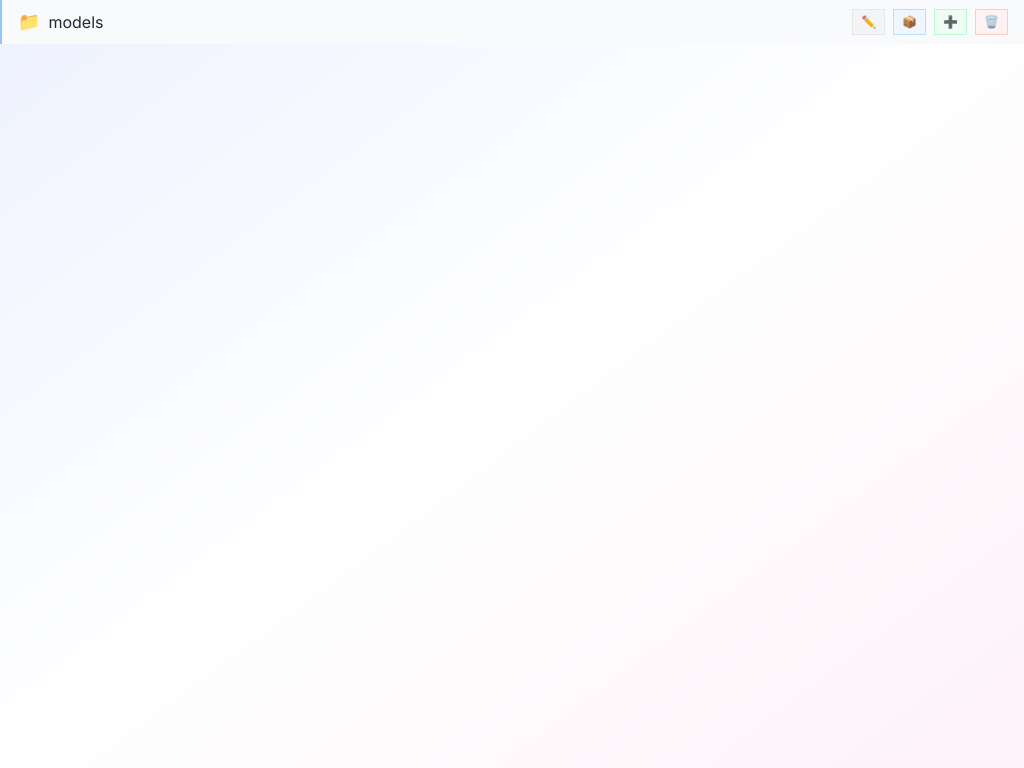
Test: FileTreeNode › collapses folder on second click
# First click: expand
Click the text "models".
click(76, 22)  # box [48,12,104,32]
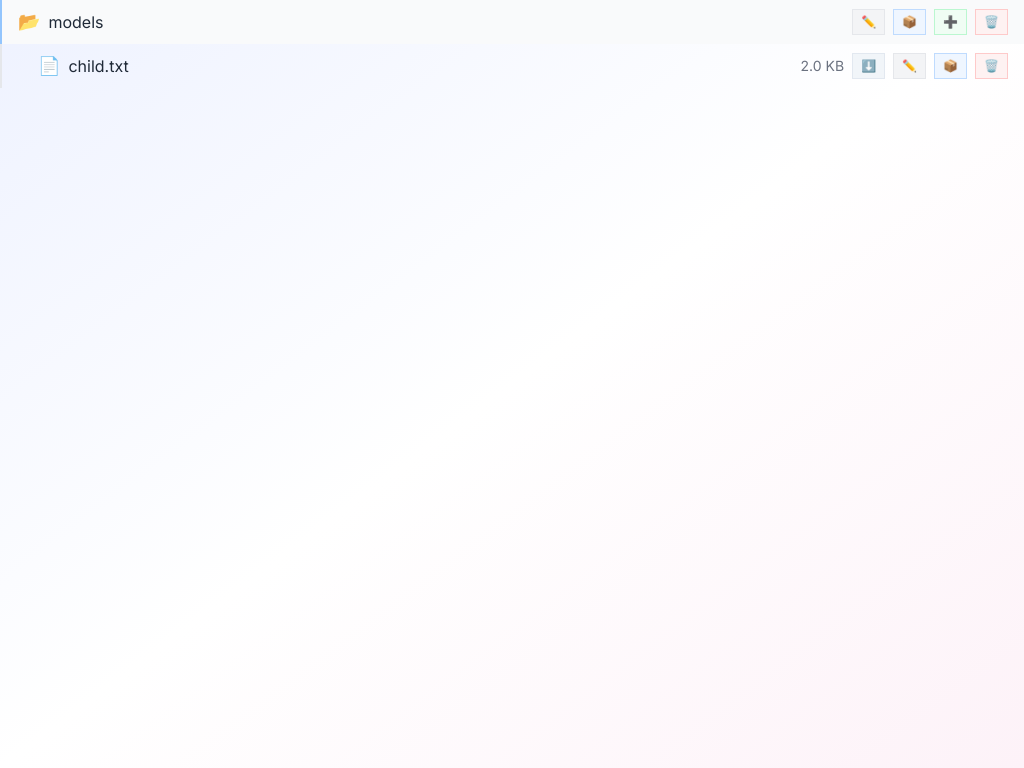
Check: the text "child.txt" is shown, box [68,56,129,76]
# Second click: collapse
Click the text "models".
click(76, 22)  # box [48,12,104,32]
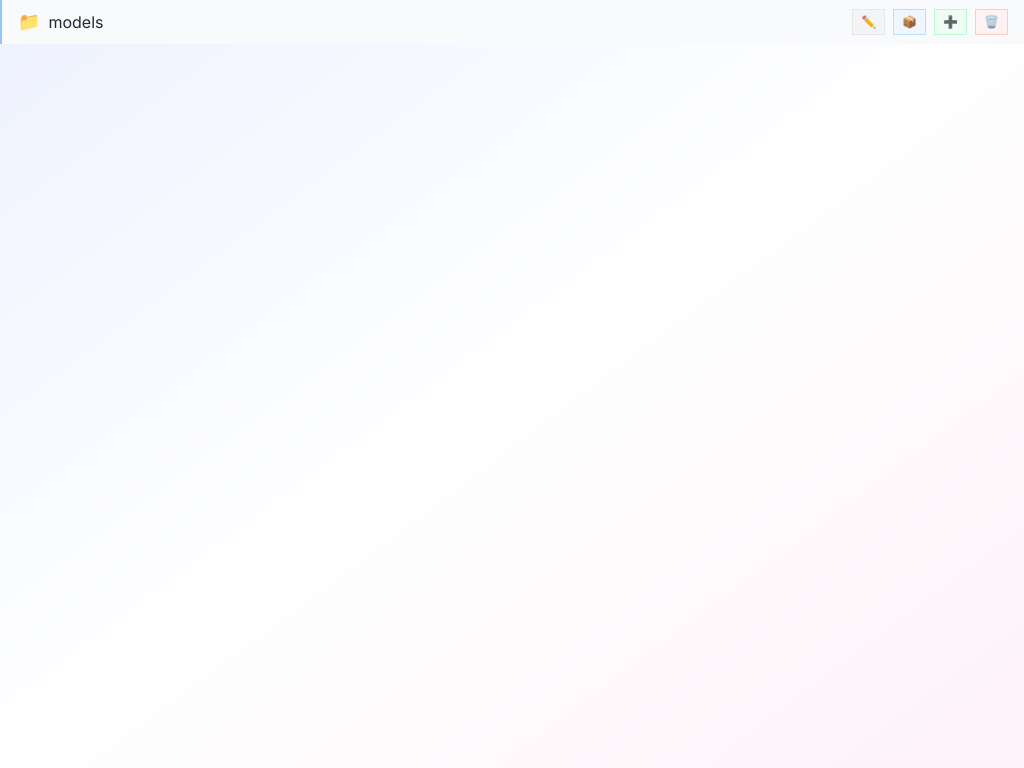
Check: the text "child.txt" is gone
